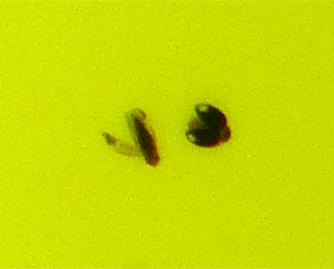Coleoptera: (183, 100, 234, 150)
Hemiptera: (100, 106, 162, 169)
